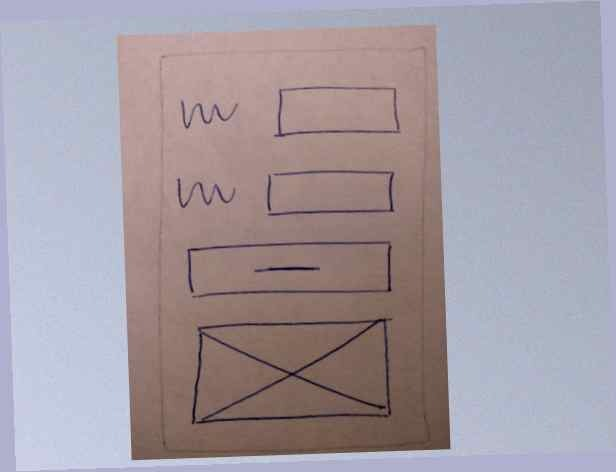button: (176, 232, 397, 306)
image: (179, 312, 402, 436)
text: (173, 88, 246, 137), (171, 170, 240, 215)
text_input: (257, 160, 406, 227), (266, 78, 412, 146)
